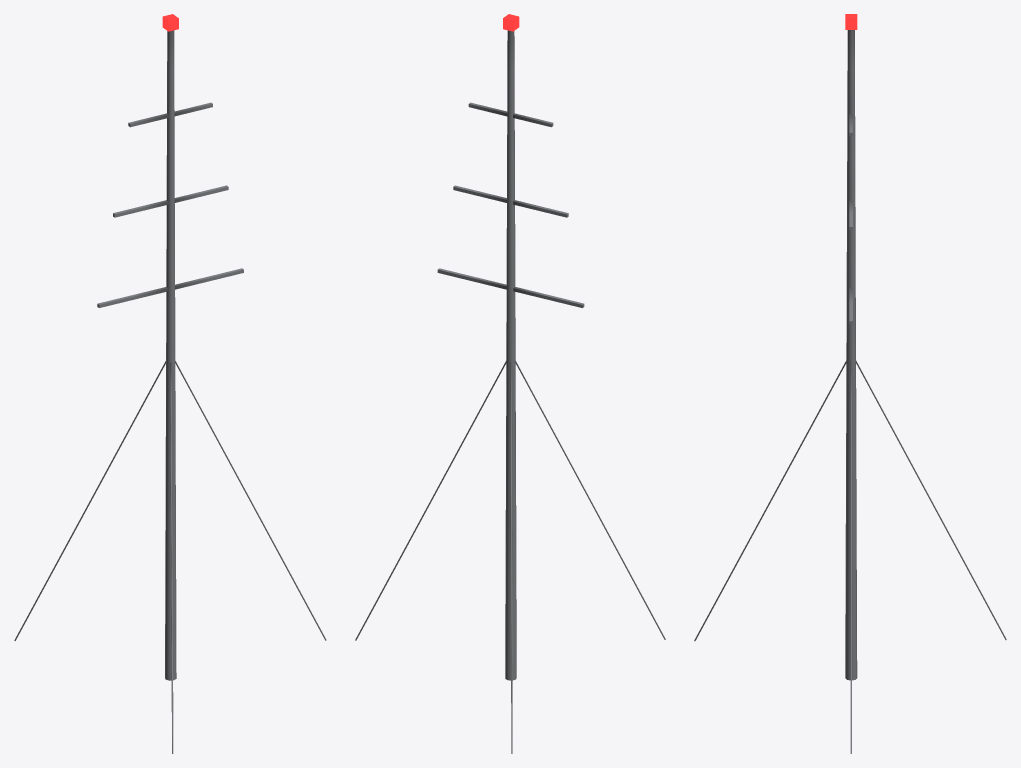
File: bd_antenna.glb
3 views of the same model, side by side, from view 1: azimuth 30°, elevation 25°; view 2: azimuth 150°, elevation 25°; view 3: azimuth 270°, elevation 25° (orthographic).
Parts seen in each view (by area): view 1: body; view 2: body; view 3: body.
Part boxes in pixels (x1,y1,x2,y2): body: [14, 14, 326, 753]; body: [355, 14, 665, 753]; body: [694, 14, 1006, 753].
Bounding box in the file's own units: 2.27 × 6.1 × 2.61.
